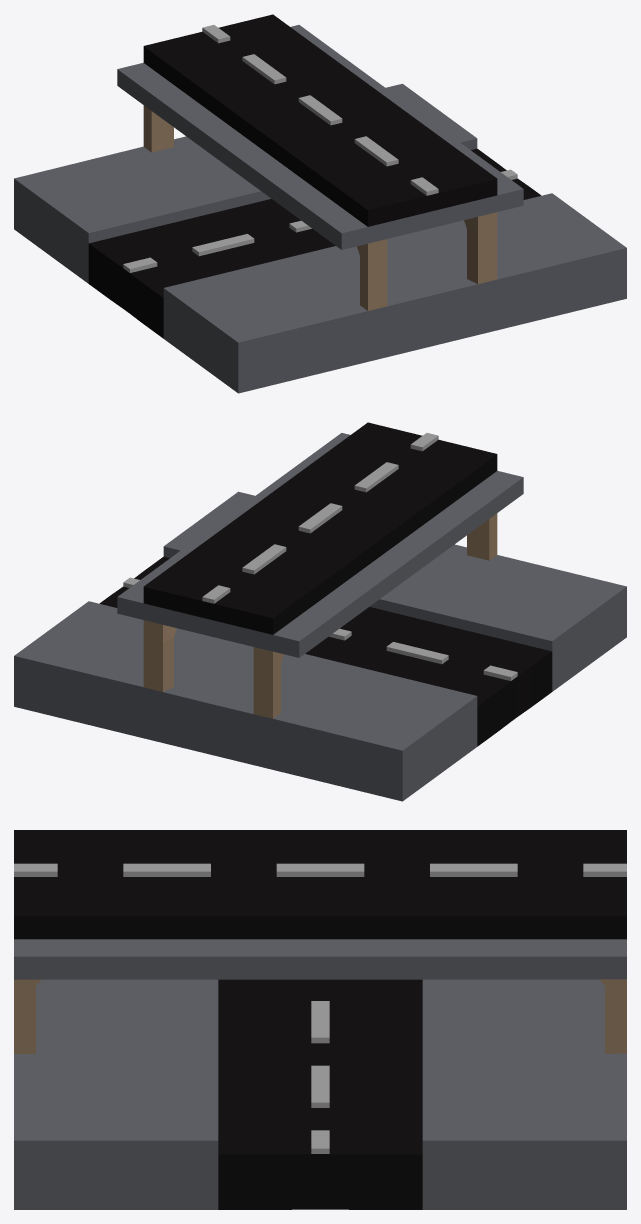
3 renders of one model, top to bottom at view 1: azimuth 30°, elevation 25°; view 2: azimuth 150°, elevation 25°; view 3: azimuth 270°, elevation 25°, orthographic. The views are drawn at different scales.
Visible parts, largest first — view 1: Street_Bridge_Underpass_Cube.020; view 2: Street_Bridge_Underpass_Cube.020; view 3: Street_Bridge_Underpass_Cube.020.
Boxes of the visible parts, box(x1,y1,x2,y2) form: Street_Bridge_Underpass_Cube.020: box(14, 14, 626, 393); Street_Bridge_Underpass_Cube.020: box(14, 422, 626, 801); Street_Bridge_Underpass_Cube.020: box(14, 830, 626, 1209).
Size of the model in its own units: 2 by 0.7659 by 2.
